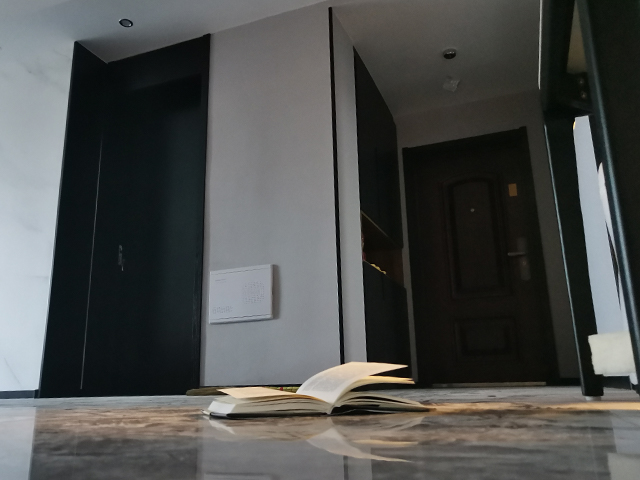book: (200, 360, 435, 422)
cabinet: (364, 261, 414, 398)
